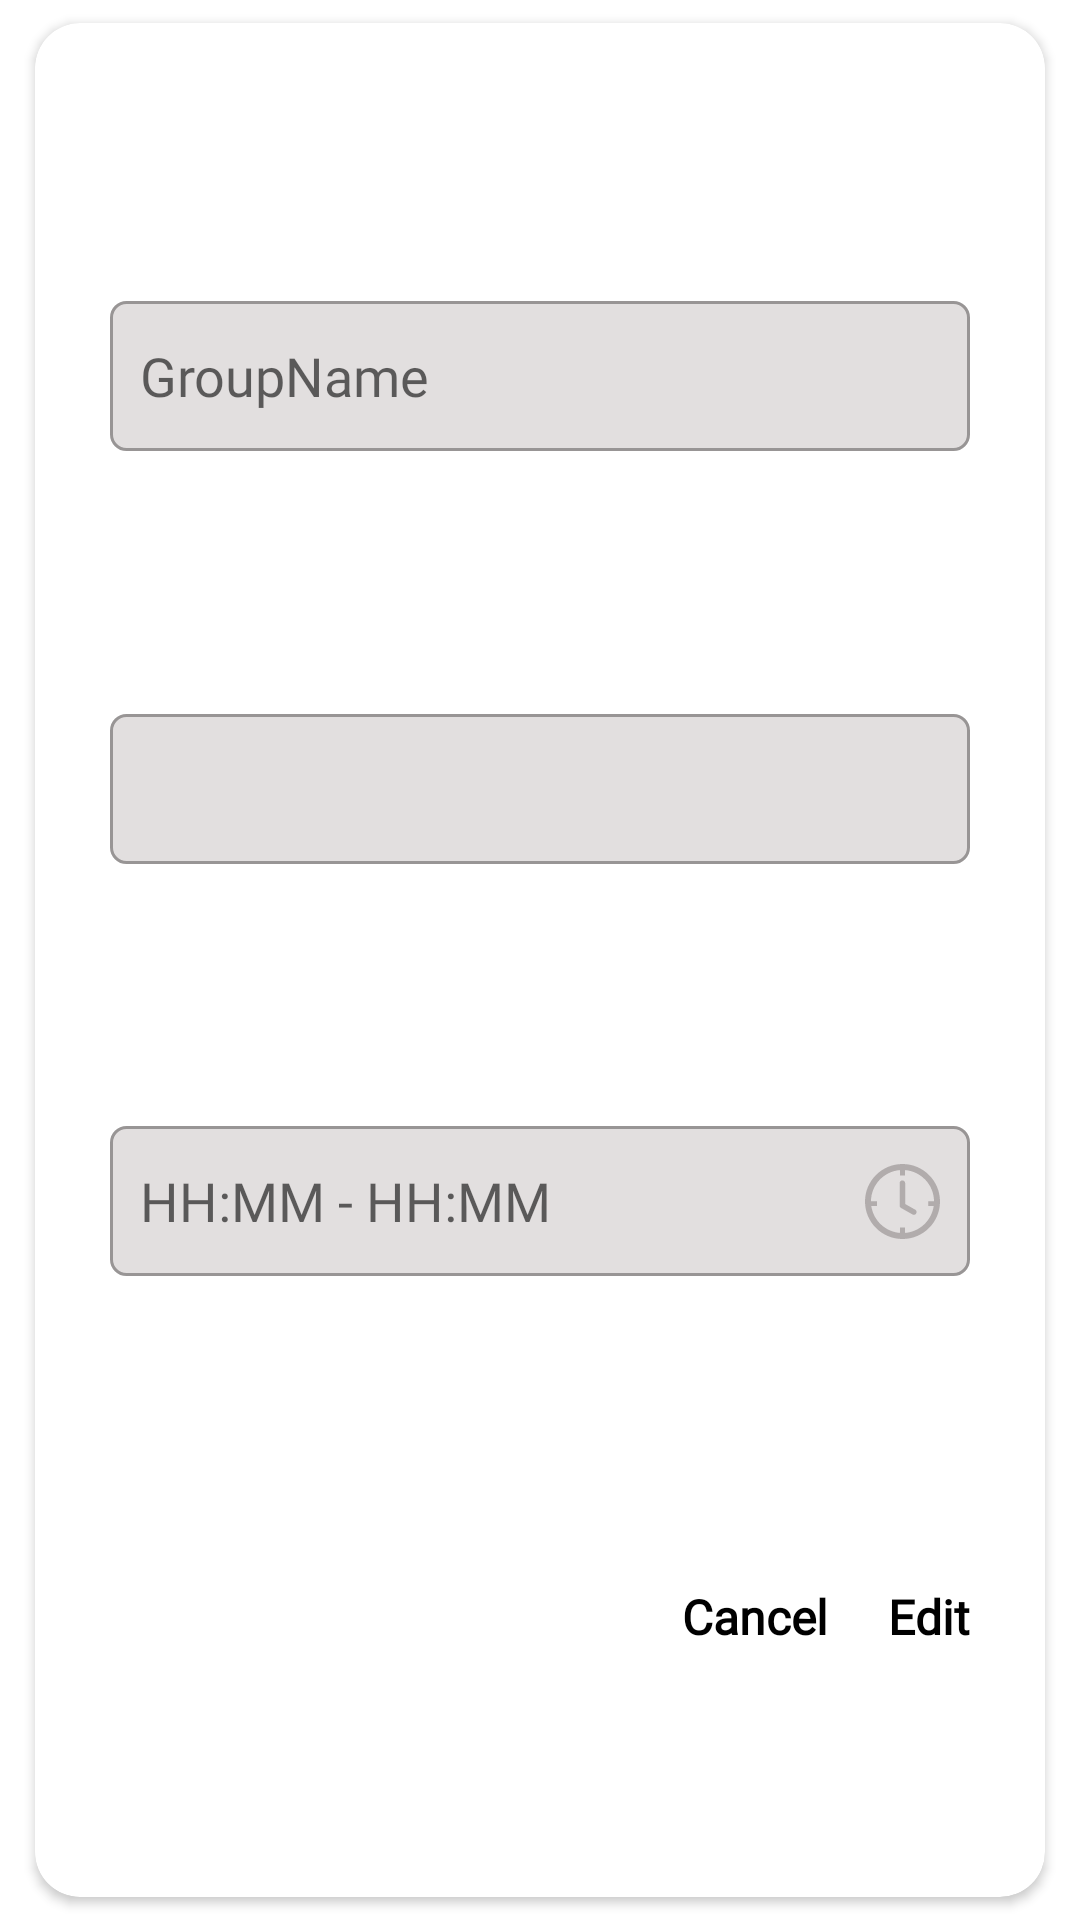

Where to tap for icons on this 1080px×1920px app screen, as (x,y):
clock: (902,1201)
